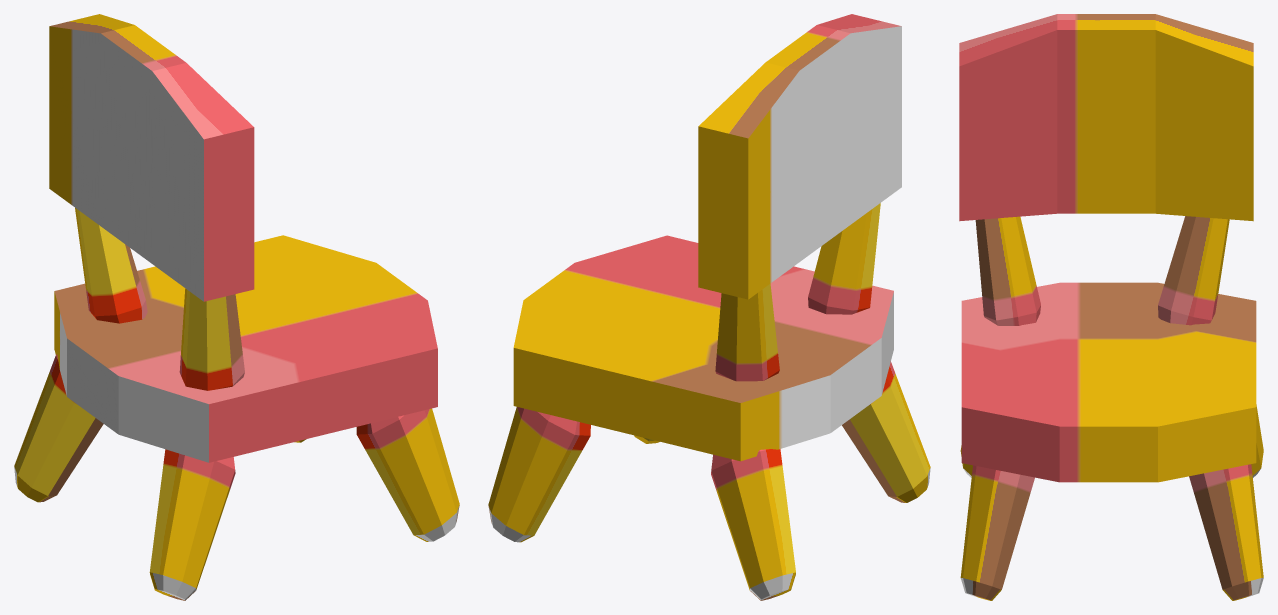
The model's file is chair-yellow.fbx.
The picture shows the model from 3 angles, left to right: view 1: azimuth 30°, elevation 25°; view 2: azimuth 150°, elevation 25°; view 3: azimuth 270°, elevation 25°; orthographic projection. The views are drawn at different scales.
Parts seen in each view (by area): view 1: chair.004; view 2: chair.004; view 3: chair.004.
Boxes of the visible parts, x1,y1,x2,y2 form: chair.004: (14, 14, 459, 600); chair.004: (488, 14, 930, 600); chair.004: (959, 14, 1263, 600).
Bounding box in the file's own units: 237 × 356 × 207.
